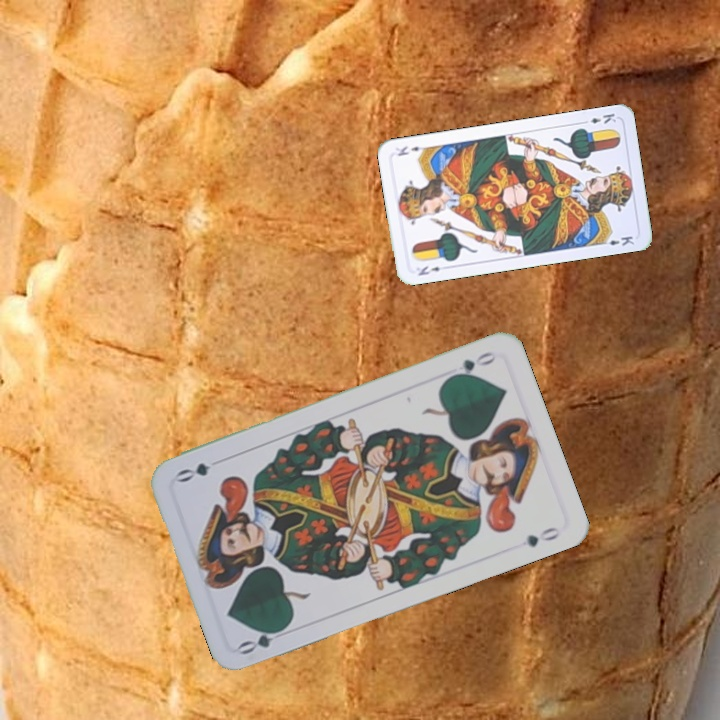EK: (578, 109, 619, 127), (414, 262, 443, 278)
GO: (235, 621, 293, 658), (444, 347, 499, 382)
